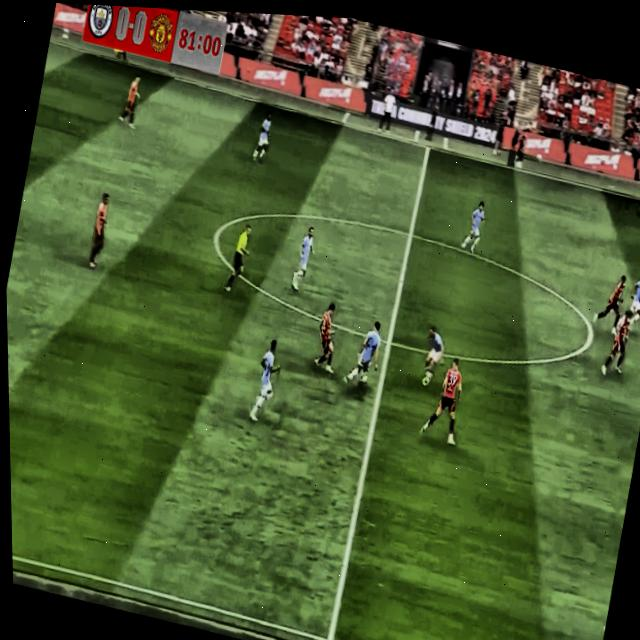ball: (414, 373, 433, 396)
players: (414, 345, 480, 452), (235, 331, 288, 430), (300, 295, 352, 384), (339, 312, 390, 400), (586, 264, 634, 347), (76, 189, 122, 275), (282, 217, 325, 305), (595, 302, 640, 383), (453, 190, 493, 266), (417, 314, 455, 390), (112, 66, 149, 139), (243, 99, 281, 170), (616, 269, 640, 347), (8, 340, 22, 463)
refree: (217, 206, 264, 312)
